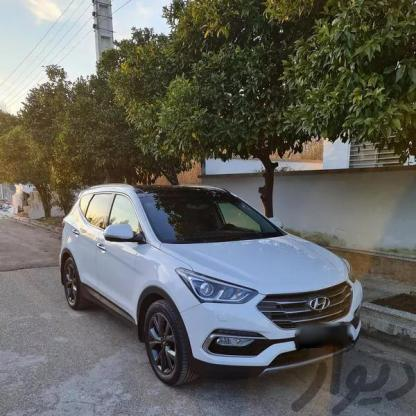Car: (46, 176, 362, 387)
